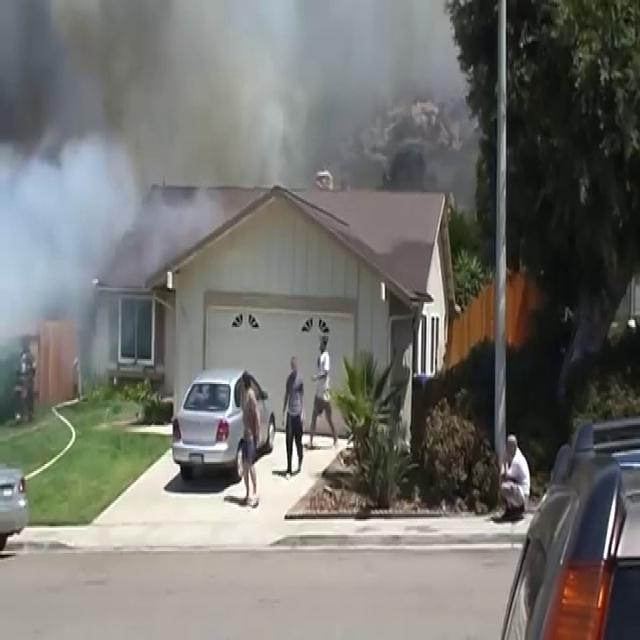Smoke: (1, 0, 470, 219)
